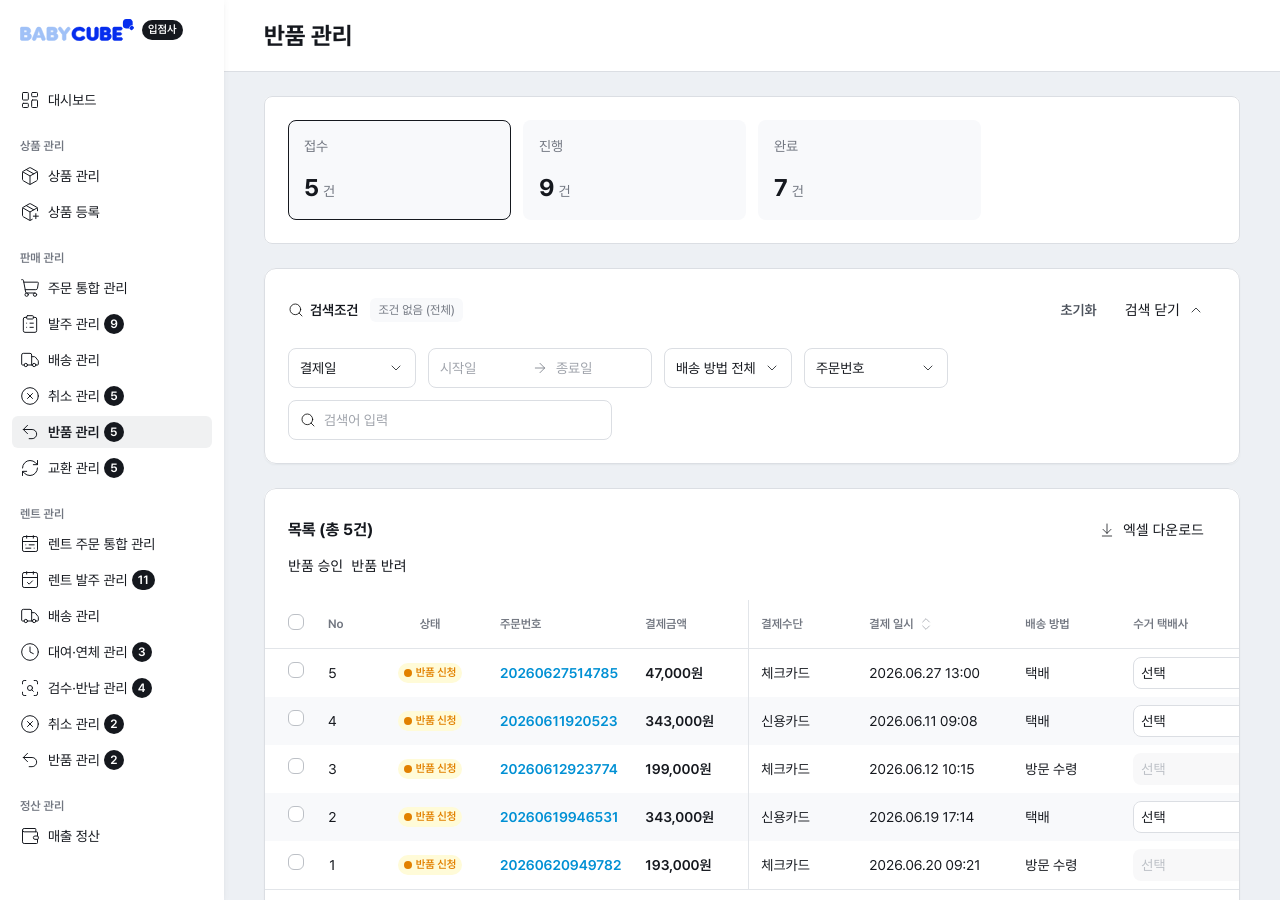
SaleReturnPage — 반품 관리 › [반품 승인] 2건 → 확인 창 → 「수거 절차를 진행해주세요」가 붙는다
Step 1. Click the checkbox named "20260627514785 흡착 식판 세트 선택" → {"x": 296, "y": 670}, box [288,662,304,678]
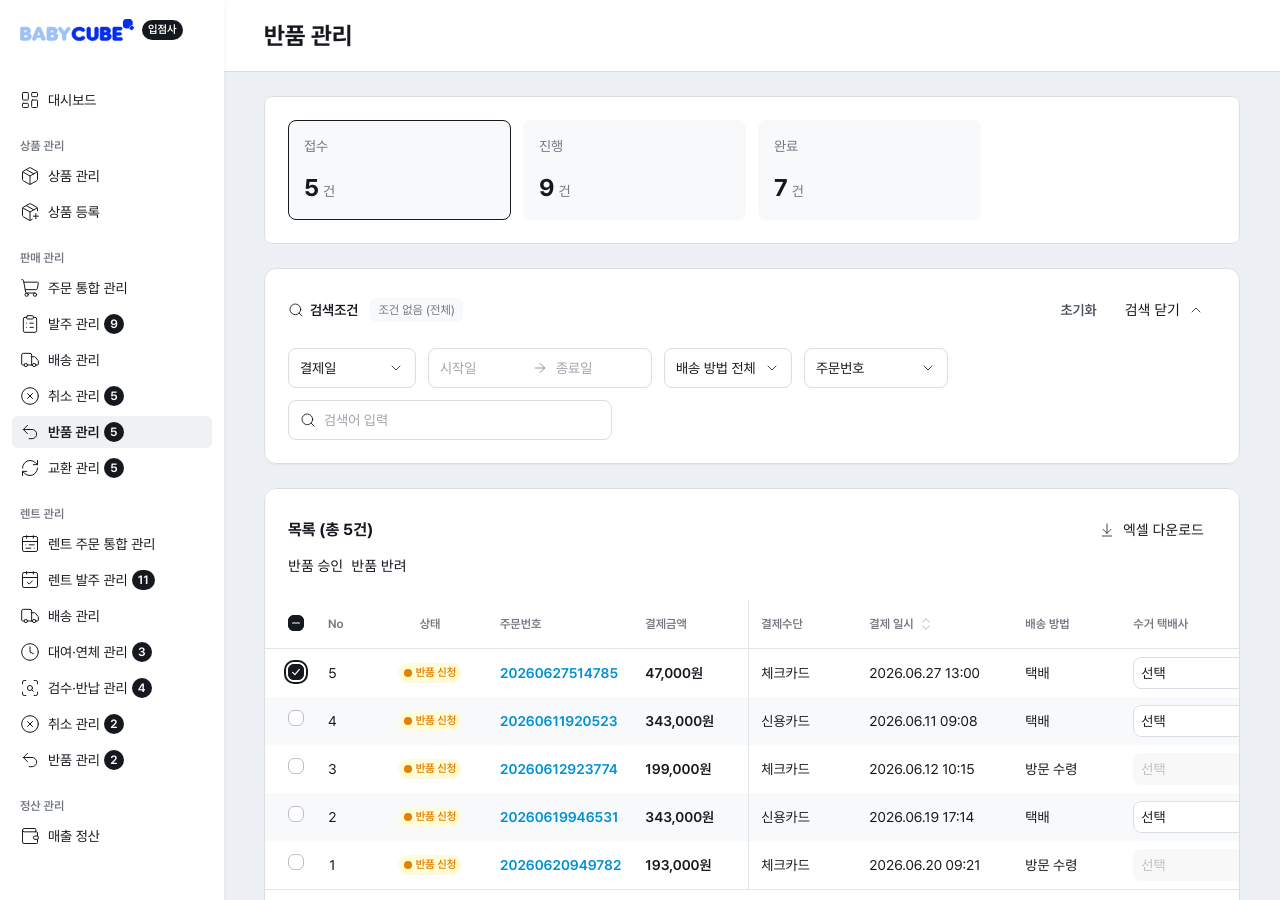
Step 2. Click the checkbox named "20260611920523 베이비큐브 시그니처 원목 아기침대 선택" → {"x": 296, "y": 718}, box [288,710,304,726]
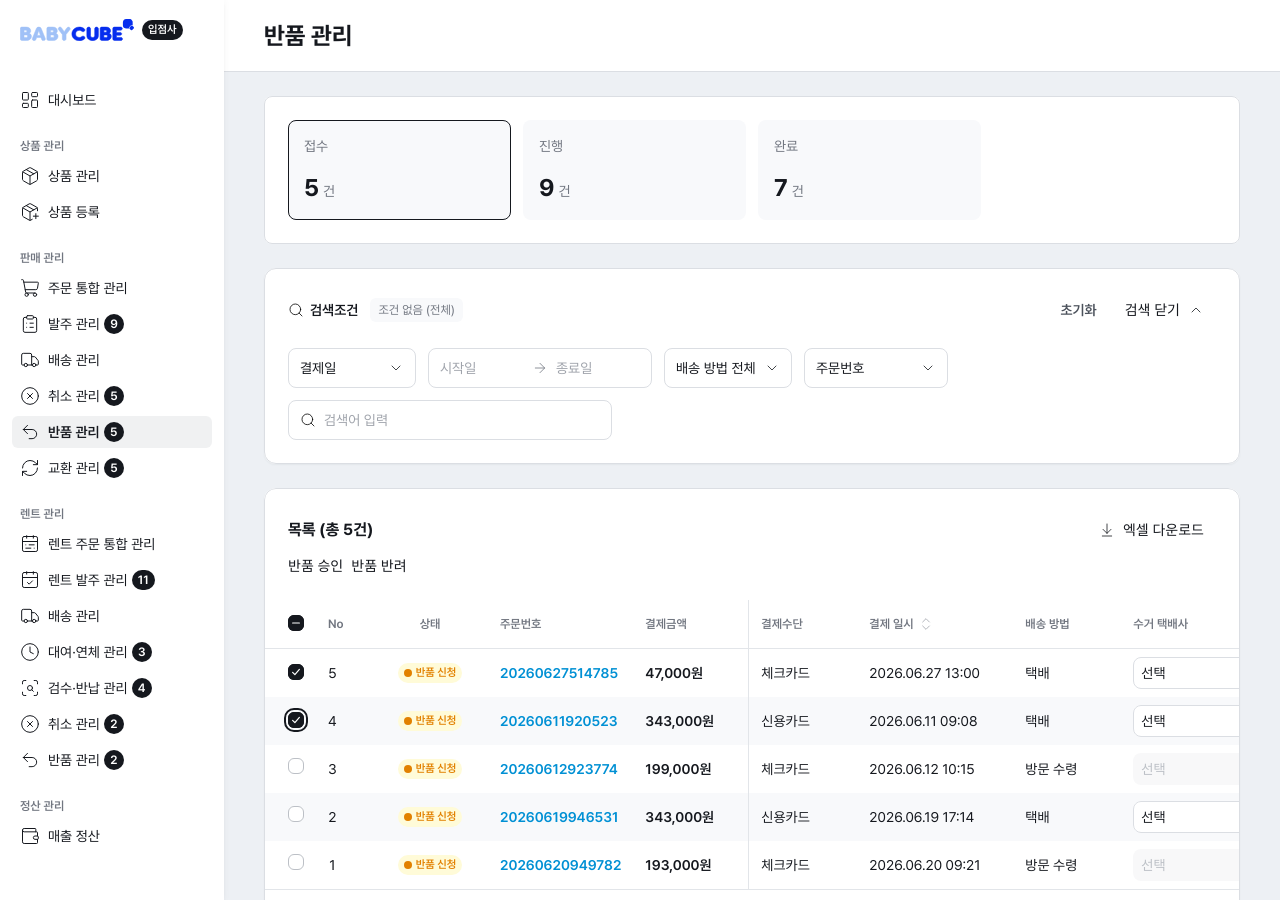
Step 3. Click the button "반품 승인" → {"x": 316, "y": 566}, box [288,556,343,576]
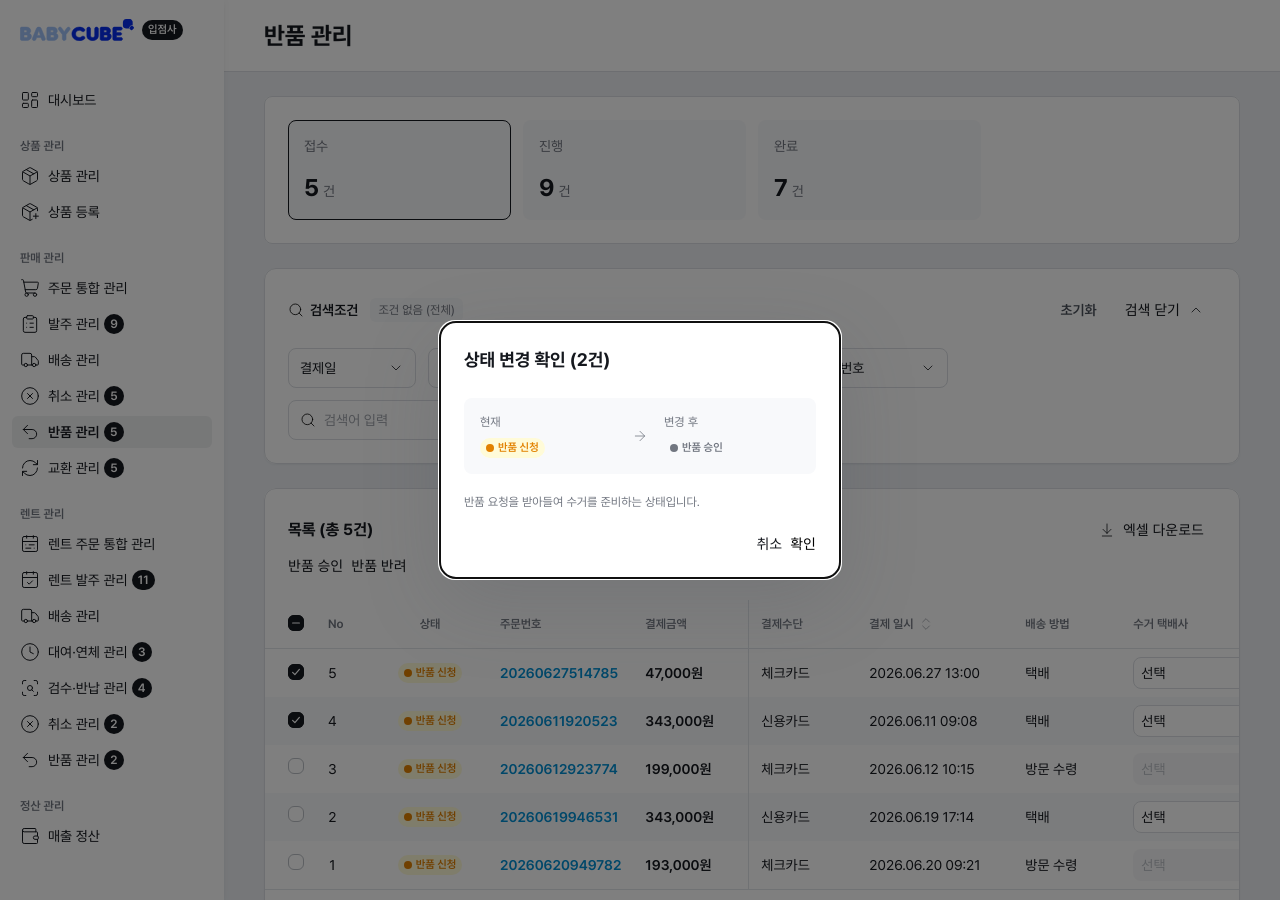
Step 4. Click the button "확인" → {"x": 803, "y": 544}, box [790,534,816,554]
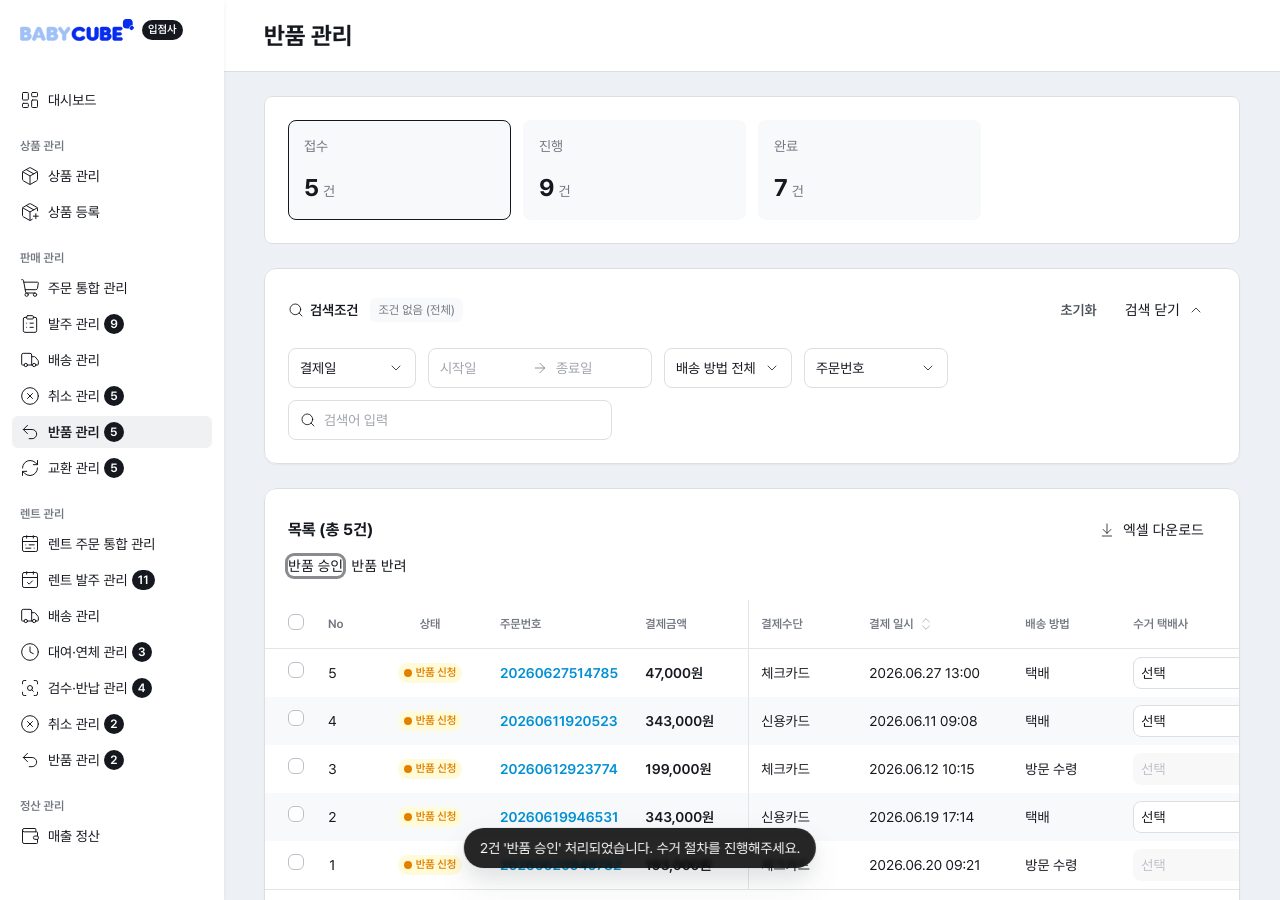
Now the text "2건 '반품 승인' 처리되었습니다. 수거 절차를 진행해주세요." is shown, box [464,828,816,868]
